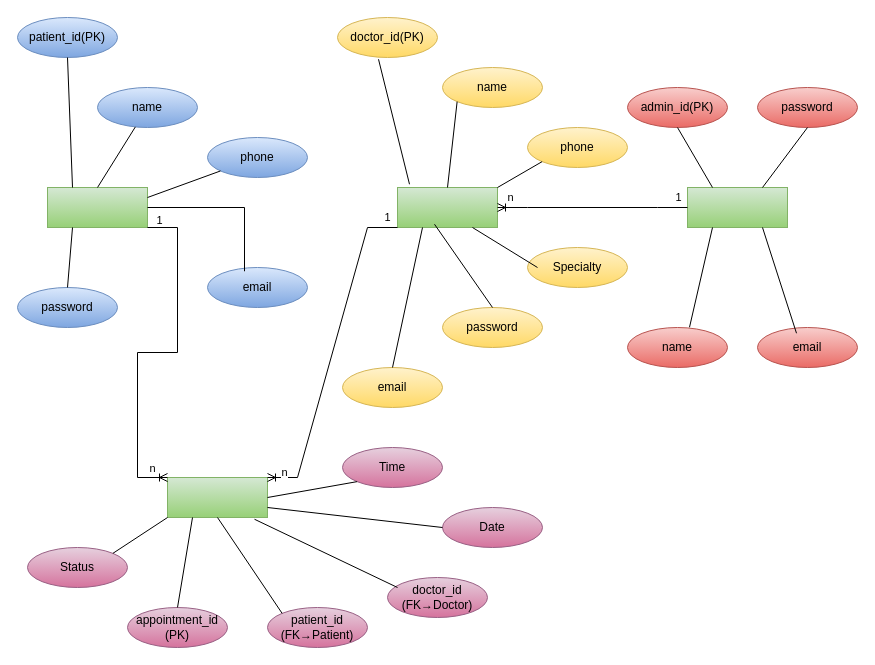
Image size: 875x665. Some labels were removed from this diagram. The centre of each missing label's shape, as x and y in pixels:
Admin: the point at 737,207
Appointments: the point at 217,497
Doctor: the point at 447,207
Patient: the point at 97,207
